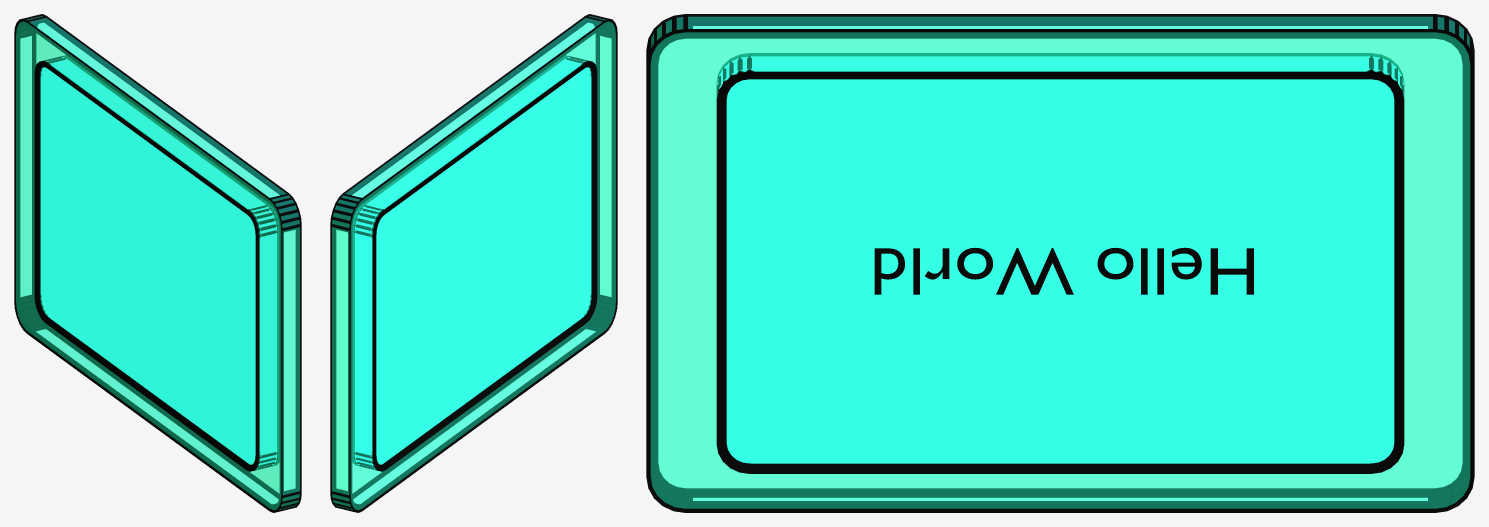
The model's file is emissive outer_nk3.fbx.
3 renders of one model, left to right at view 1: azimuth 30°, elevation 25°; view 2: azimuth 150°, elevation 25°; view 3: azimuth 270°, elevation 25°, orthographic. The views are drawn at different scales.
Parts seen in each view (by area): view 1: State1: Translucent Design.001; view 2: State1: Translucent Design.001; view 3: State1: Translucent Design.001.
Part boxes in pixels (<box>): State1: Translucent Design.001: <box>14,14,301,512</box>; State1: Translucent Design.001: <box>330,14,617,512</box>; State1: Translucent Design.001: <box>646,14,1474,512</box>.
Size of the model in its own units: 0.5836 by 7.13 by 11.05.
